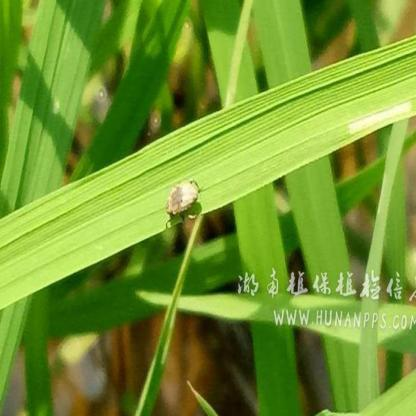rice-bug: (166, 177, 202, 229)
